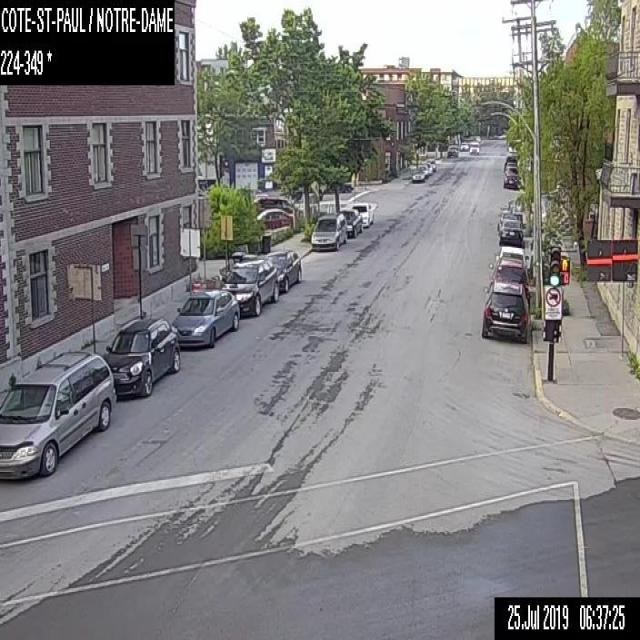vehicle: (0, 353, 115, 482), (102, 318, 180, 397), (170, 289, 238, 348), (221, 258, 278, 316), (481, 277, 529, 338), (263, 249, 301, 292), (311, 212, 346, 251), (488, 256, 528, 286), (256, 208, 292, 228), (253, 196, 297, 212), (498, 218, 523, 245), (495, 245, 528, 264), (340, 209, 362, 237), (497, 210, 523, 232), (351, 201, 373, 226), (502, 171, 517, 188), (503, 155, 517, 171), (411, 168, 423, 182), (446, 144, 458, 158), (338, 182, 353, 192), (468, 140, 478, 154), (418, 164, 428, 177), (426, 158, 436, 171), (504, 166, 518, 173), (459, 141, 468, 150), (506, 162, 516, 167), (427, 162, 431, 174)
